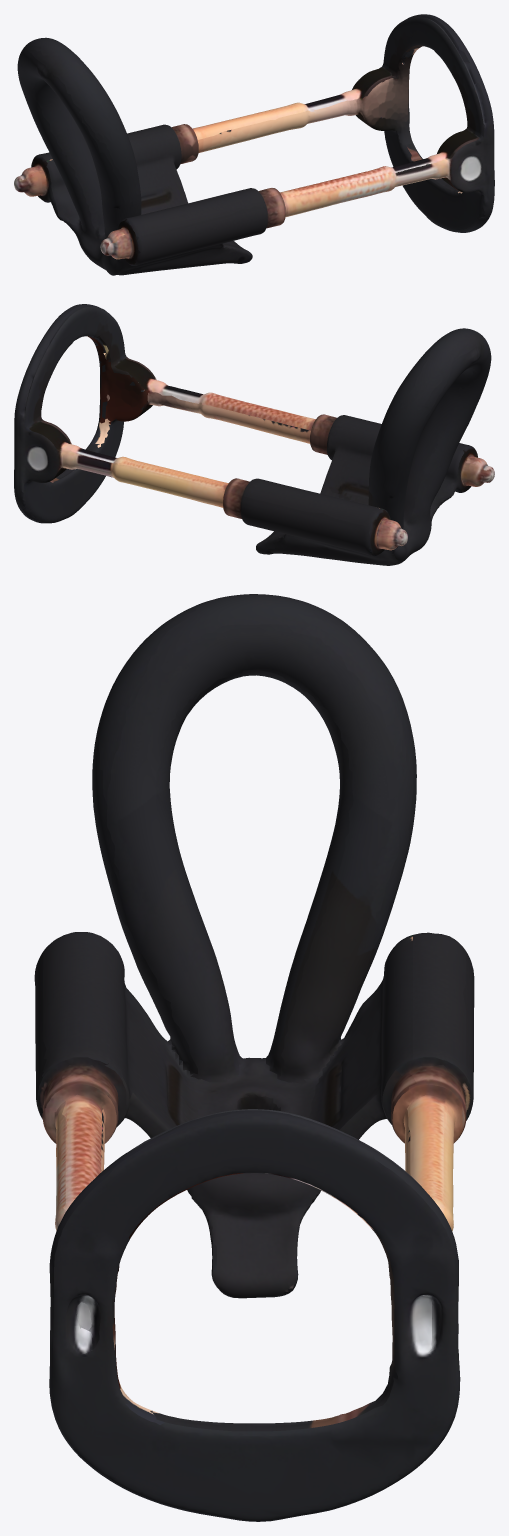
File: device-model.glb
The picture shows the model from 3 angles, top to bottom: view 1: azimuth 30°, elevation 25°; view 2: azimuth 150°, elevation 25°; view 3: azimuth 270°, elevation 25°; orthographic projection. The views are drawn at different scales.
Parts seen in each view (by area): view 1: tmp2o49leru.ply; view 2: tmp2o49leru.ply; view 3: tmp2o49leru.ply.
Boxes of the visible parts, bbox=[...] form: tmp2o49leru.ply: bbox=[14, 14, 494, 275]; tmp2o49leru.ply: bbox=[14, 304, 494, 565]; tmp2o49leru.ply: bbox=[34, 594, 474, 1521].
Bounding box in the file's own units: 1.97 × 1.26 × 0.9158.
Materials: 1 (1 with a texture image).
